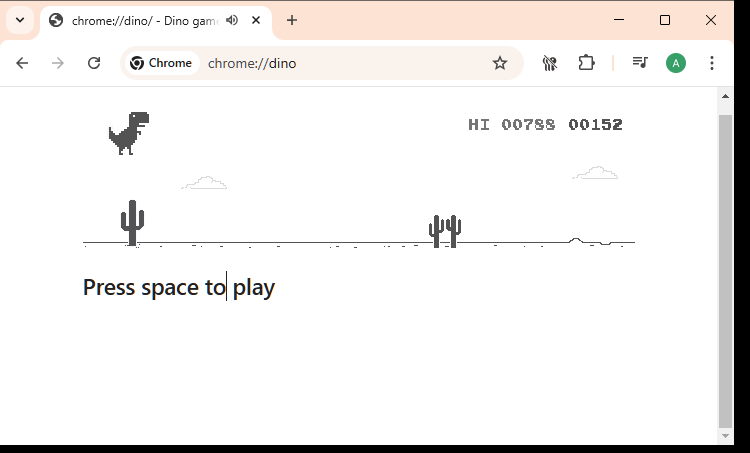cactus: (120, 199, 145, 247), (428, 214, 445, 248), (445, 214, 462, 248)
dino: (108, 111, 150, 156)
